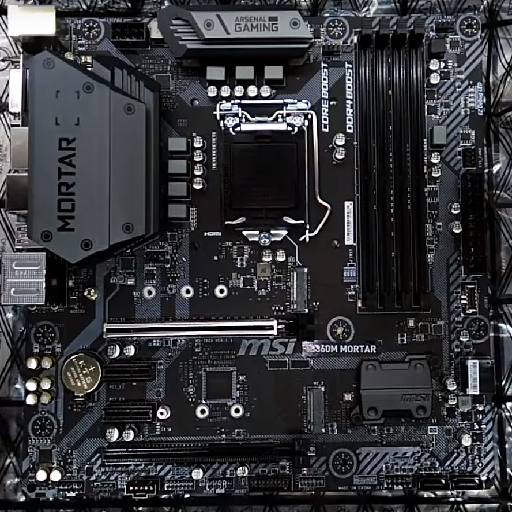CPU: (217, 115, 309, 243)
GPU: (99, 438, 319, 470), (100, 315, 316, 344)
MOTHERBOARD: (5, 8, 506, 505)
RAM: (354, 27, 436, 317)
SSD: (300, 382, 328, 435), (286, 264, 311, 315)
